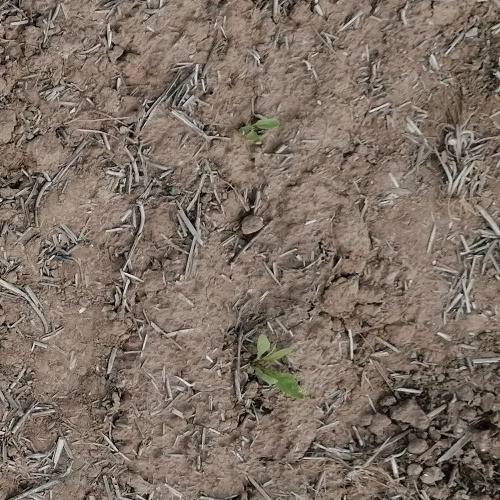beet: (255, 334, 305, 399), (239, 119, 280, 140)
